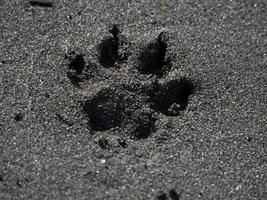chien: (63, 26, 199, 142)
